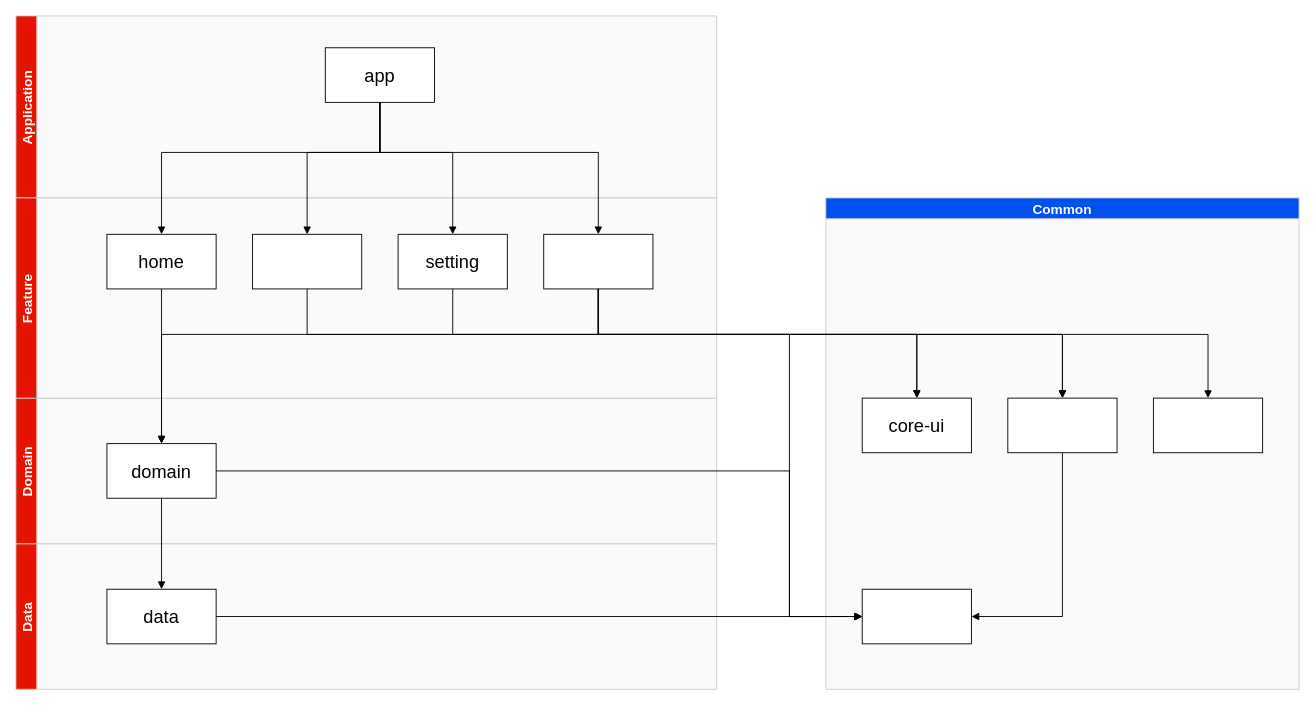
This 1315x705 diagram has some shape labels left out. The shapes that lost their labels are listed below. From the top down, each one's centre as x and y in pixels, then its label:
the point at 307,261: schedule
the point at 598,261: detail
the point at 1062,425: core-ui-compose
the point at 1208,425: navigator
the point at 916,616: shared
